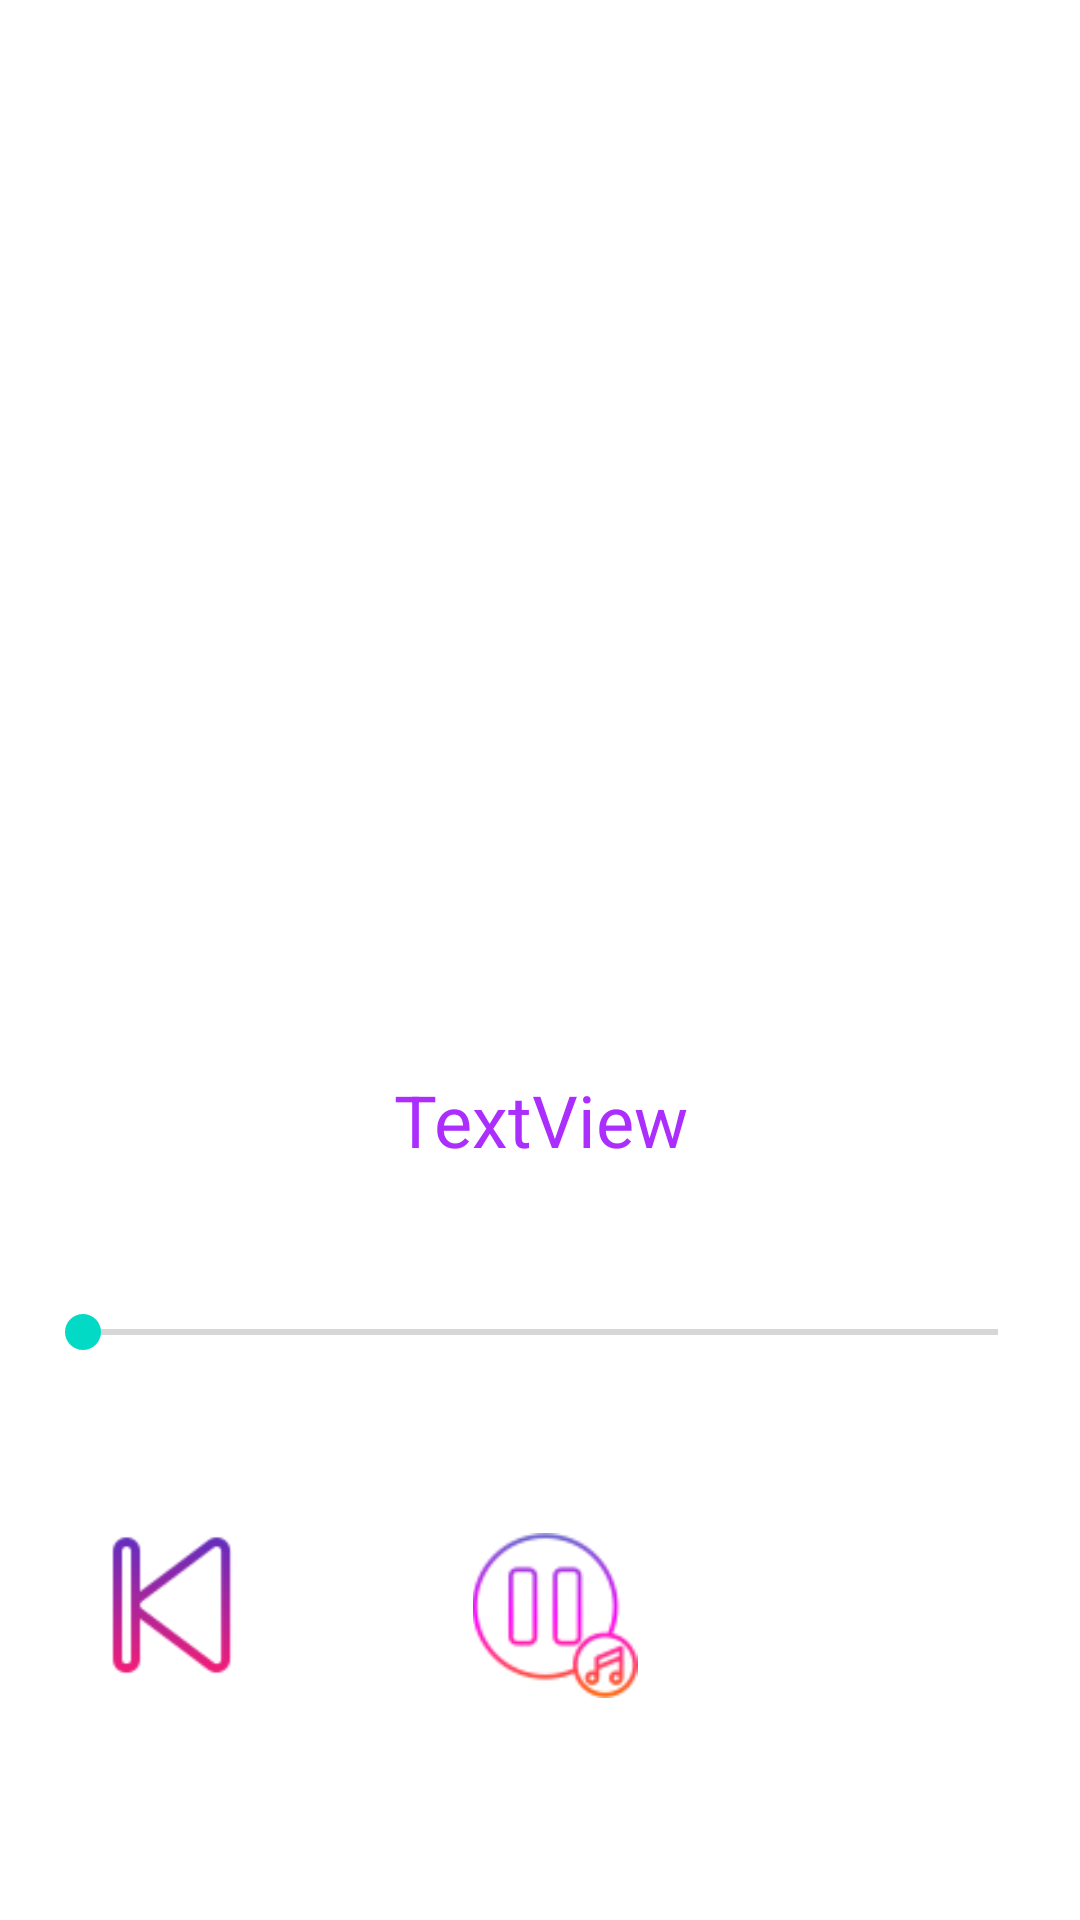

Screen size 1080 × 1920. Icon name, then its box in pixels as (x1, y1, x2, y2):
back: (112, 1537, 231, 1673)
pause: (473, 1533, 638, 1698)
